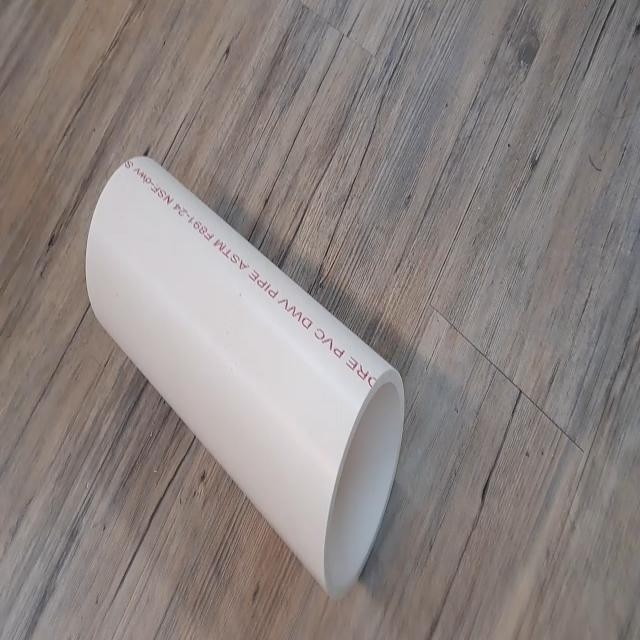CORAL: (72, 144, 414, 604)
